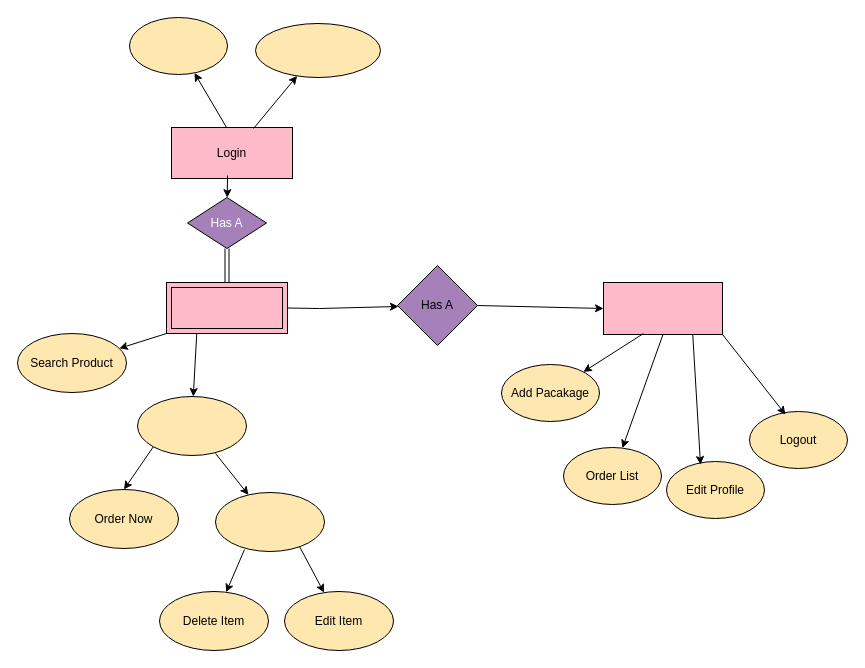
This 865x668 diagram has some shape labels left out. Here are the shapes that lost their labels. From the top down, the box of each, then its label:
(128, 16, 228, 74): email
(254, 22, 380, 78): Password
(166, 282, 288, 334): Home
(602, 282, 722, 334): Profile
(136, 396, 246, 456): Pacakage
(214, 492, 324, 552): View Product
